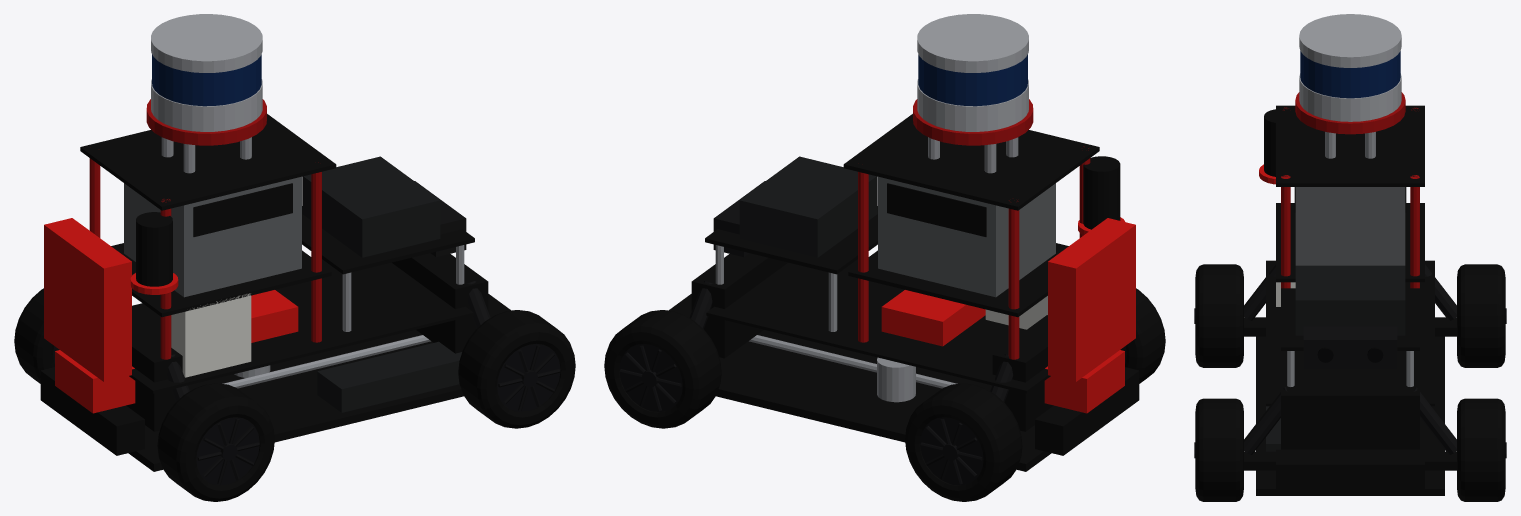
The model's file is car_a.dae.
3 views of the same model, side by side, from view 1: azimuth 30°, elevation 25°; view 2: azimuth 150°, elevation 25°; view 3: azimuth 270°, elevation 25° (orthographic). The views are drawn at different scales.
Parts seen in each view (by area): view 1: black_plastic-node, tyre-node, red_print-node, dark_plastic-node, jetson_grey-node, lidar_body-node, rim_black-node, red_anodized-node, white_plate-node, alloy-node, lidar_window-node, alu_black-node; view 2: black_plastic-node, red_print-node, tyre-node, jetson_grey-node, dark_plastic-node, lidar_body-node, rim_black-node, red_anodized-node, alloy-node, lidar_window-node, alu_black-node, white_plate-node; view 3: black_plastic-node, tyre-node, jetson_grey-node, dark_plastic-node, lidar_body-node, alu_black-node, red_anodized-node, lidar_window-node, alloy-node, lens-node.
Boxes of the visible parts, x1,y1,x2,y2 form: black_plastic-node: (40,114,511,471); tyre-node: (14,288,575,501); red_print-node: (44,218,298,413); dark_plastic-node: (302,156,461,412); jetson_grey-node: (124,176,301,297); lidar_body-node: (151,14,262,131); rim_black-node: (53,343,560,485); red_anodized-node: (89,99,321,359); white_plate-node: (171,293,251,377); alloy-node: (161,137,464,388); lidar_window-node: (152,54,261,106); alu_black-node: (166,181,490,402); black_plastic-node: (668,114,1139,471); red_print-node: (881,217,1135,413); tyre-node: (604,288,1165,501); jetson_grey-node: (878,176,1055,297); dark_plastic-node: (739,156,877,257); lidar_body-node: (917,14,1028,131); rim_black-node: (619,343,1126,485); red_anodized-node: (858,99,1090,359); alloy-node: (715,137,1018,402); lidar_window-node: (918,54,1027,106); alu_black-node: (689,181,1013,402); white_plate-node: (985,296,1047,329); black_plastic-node: (1244,105,1456,495); tyre-node: (1195,264,1505,501); jetson_grey-node: (1295,187,1405,265); dark_plastic-node: (1266,265,1405,451); lidar_body-node: (1299,14,1401,121); alu_black-node: (1244,264,1456,454); red_anodized-node: (1281,92,1419,288); lidar_window-node: (1300,51,1400,98); alloy-node: (1287,132,1413,386); lens-node: (1317,347,1383,362).
Size of the model in its own units: 0.446 by 0.314 by 0.394.
